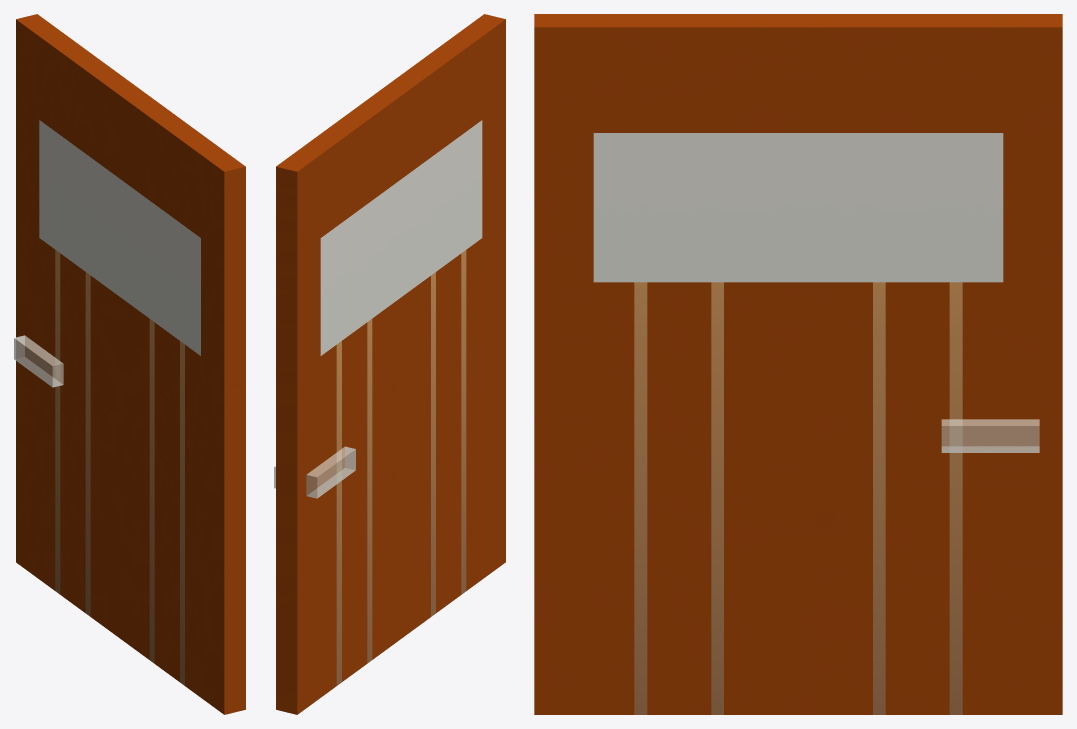
Rendered from Door.fbx.
The picture shows the model from 3 angles, left to right: view 1: azimuth 30°, elevation 25°; view 2: azimuth 150°, elevation 25°; view 3: azimuth 270°, elevation 25°; orthographic projection. The views are drawn at different scales.
Visible parts, largest first — view 1: Door; view 2: Door; view 3: Door.
Boxes of the visible parts, <box> form: Door: <box>14,14,245,714</box>; Door: <box>274,14,505,714</box>; Door: <box>534,14,1062,714</box>.
Size of the model in its own units: 17.9 by 215 by 150.
